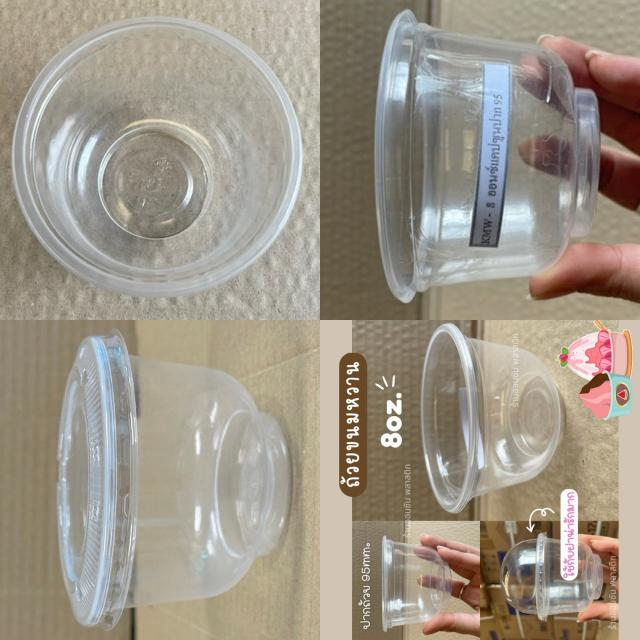Single-Use-Plastic: (12, 18, 301, 296), (58, 330, 290, 629), (375, 10, 599, 302), (421, 324, 565, 512), (501, 532, 602, 620), (382, 539, 451, 629)
